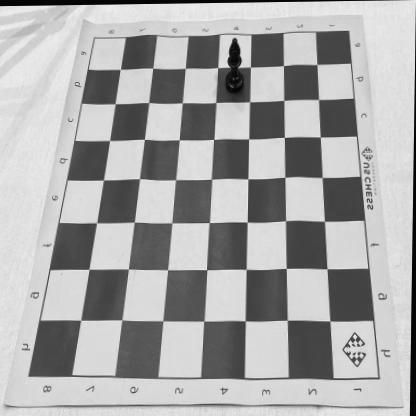black-bishop: (224, 36, 245, 94)
